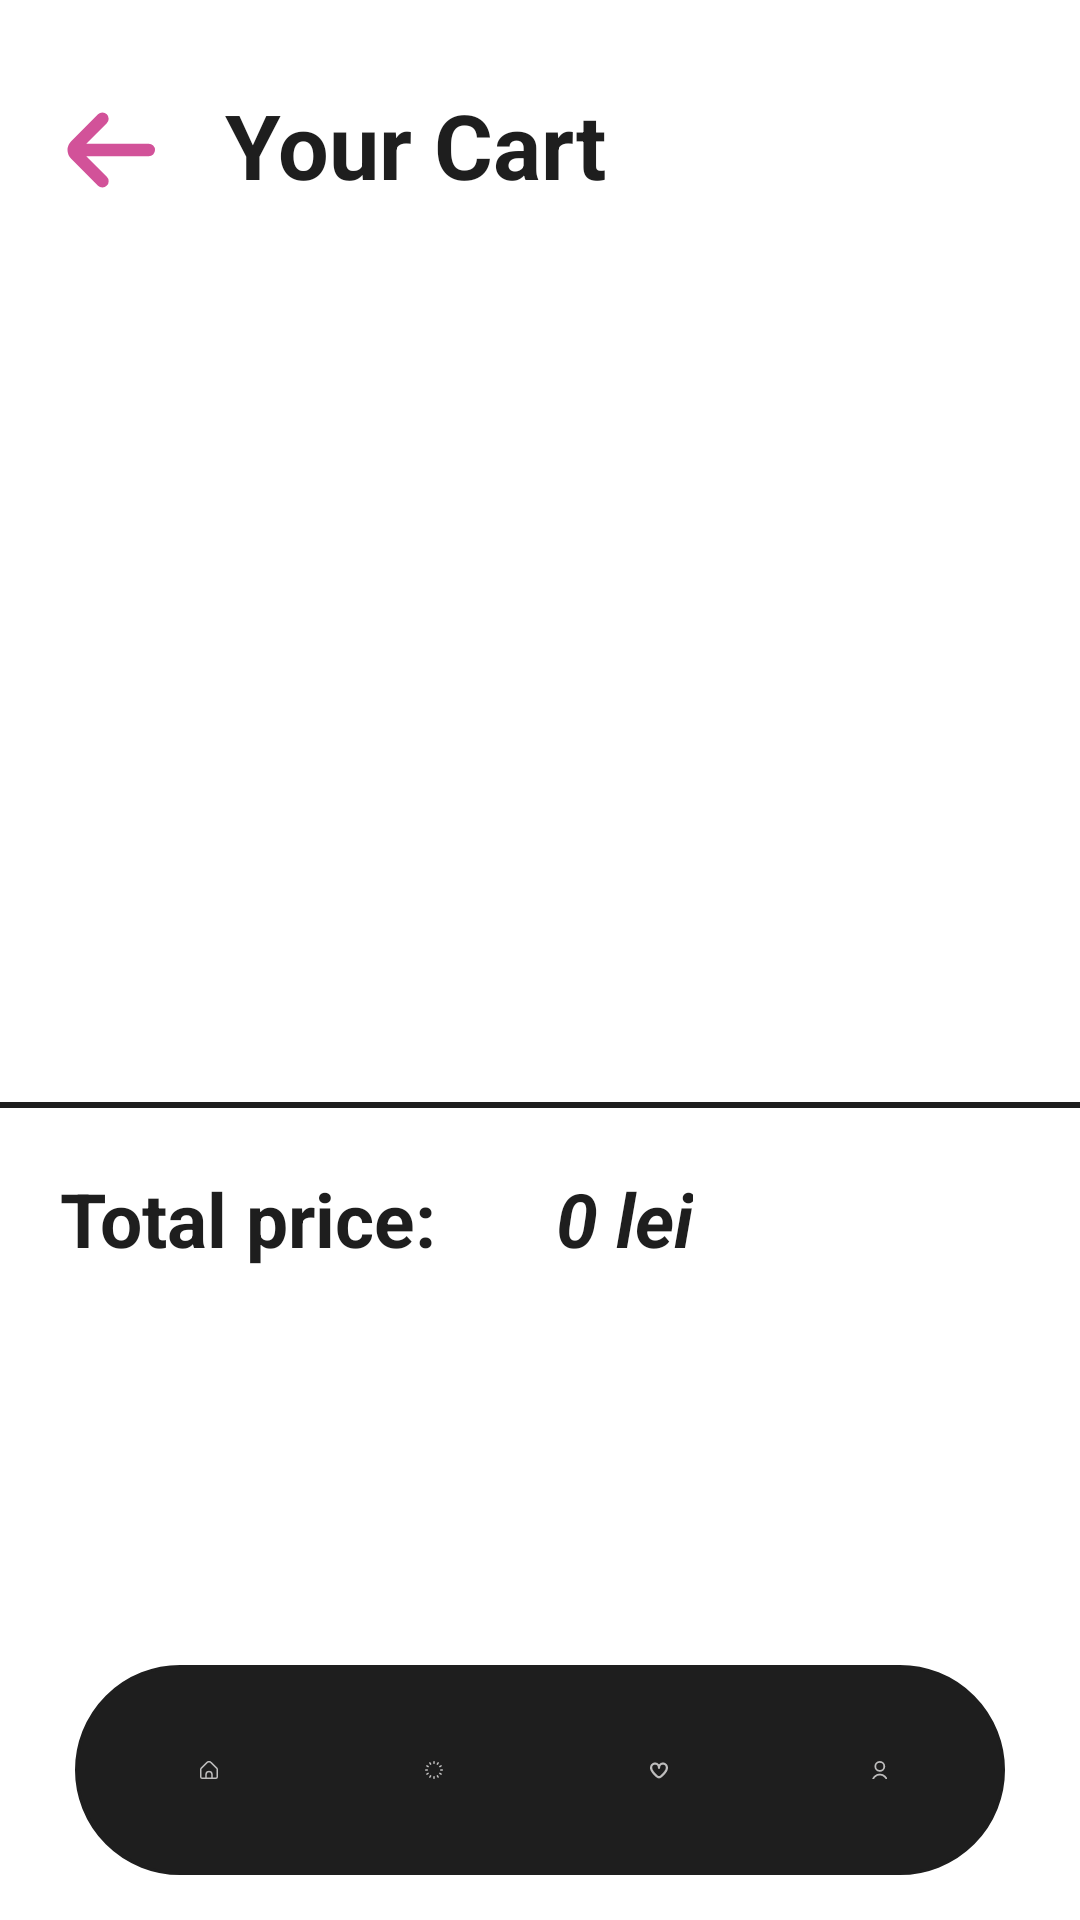

Locate icon controls on the screen. Image size 1080×1920, boxes as BBox(x1, y1, x2, y2).
Go back: BBox(67, 112, 155, 188)
